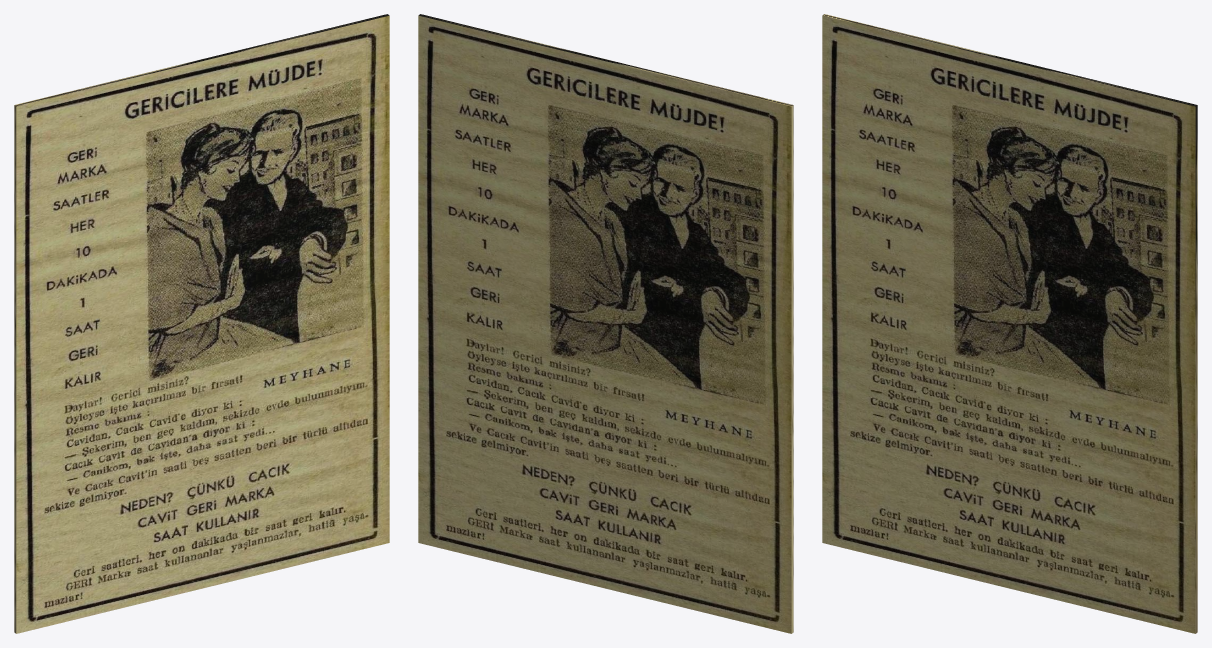
Rendered from Afish2.fbx.
3 renders of one model, left to right at view 1: azimuth 30°, elevation 25°; view 2: azimuth 150°, elevation 25°; view 3: azimuth 330°, elevation 25°, orthographic.
Parts seen in each view (by area): view 1: Cube.001; view 2: Cube.001; view 3: Cube.001.
Part boxes in pixels (x1,y1,x2,y2): Cube.001: [14, 14, 389, 633]; Cube.001: [418, 14, 793, 633]; Cube.001: [822, 14, 1197, 633].
Size of the model in its own units: 148 by 200 by 1.48.
1 material, 1 textured.
